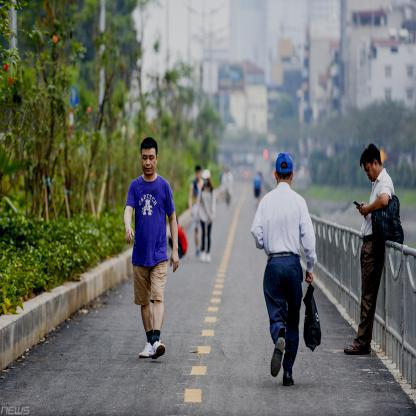person: (256, 150, 309, 388), (122, 136, 176, 362), (350, 146, 394, 356)
